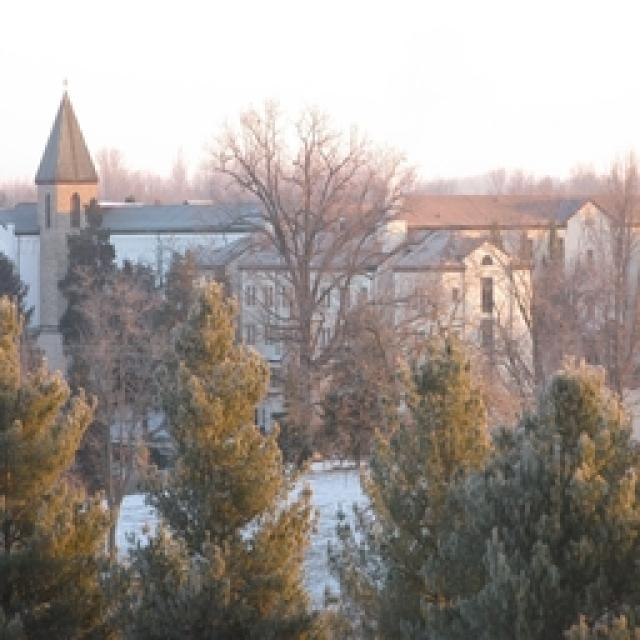Abbey: (39, 68, 619, 447)
